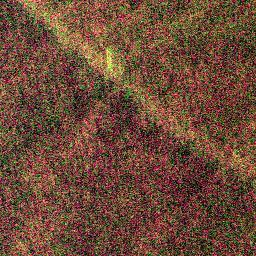Ship: (101, 48, 116, 71)
